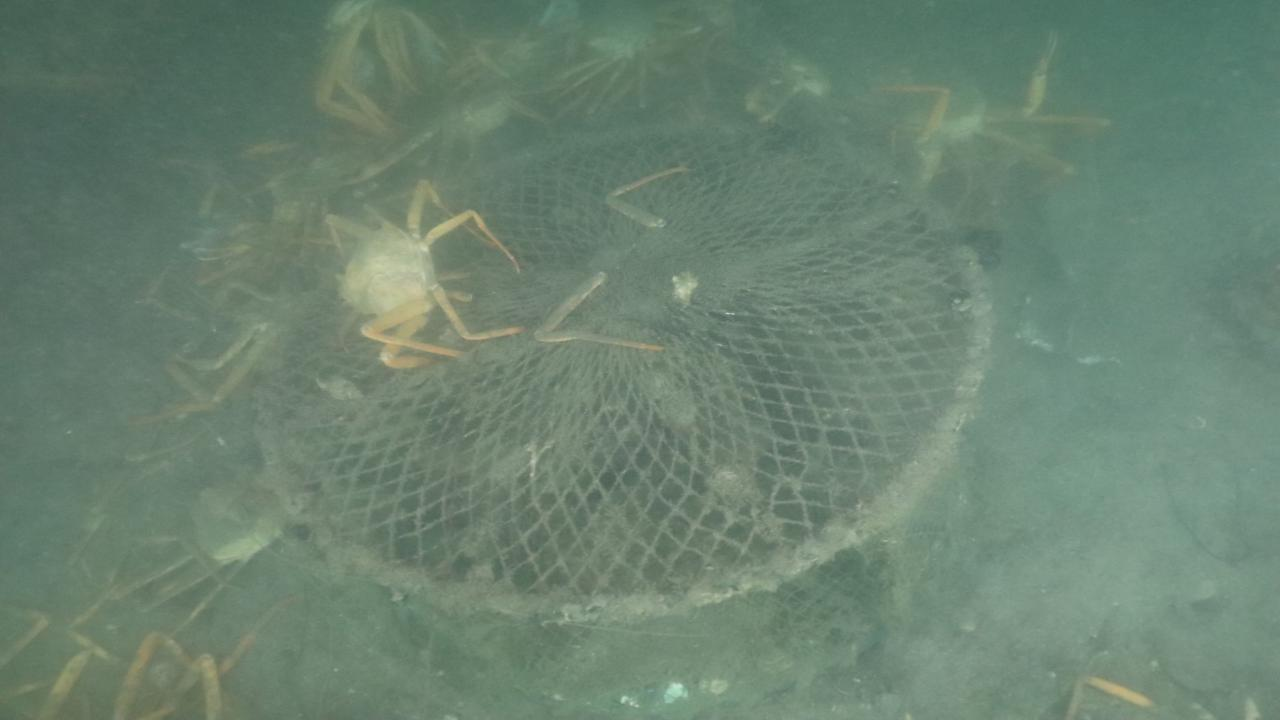circular fish trap: (250, 112, 993, 668)
